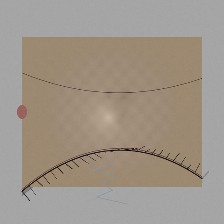foreign_body_visible: (36, 97, 58, 115)
